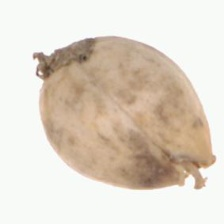L1: (31, 38, 96, 72), (170, 154, 220, 189)
L2: (30, 36, 216, 190)
